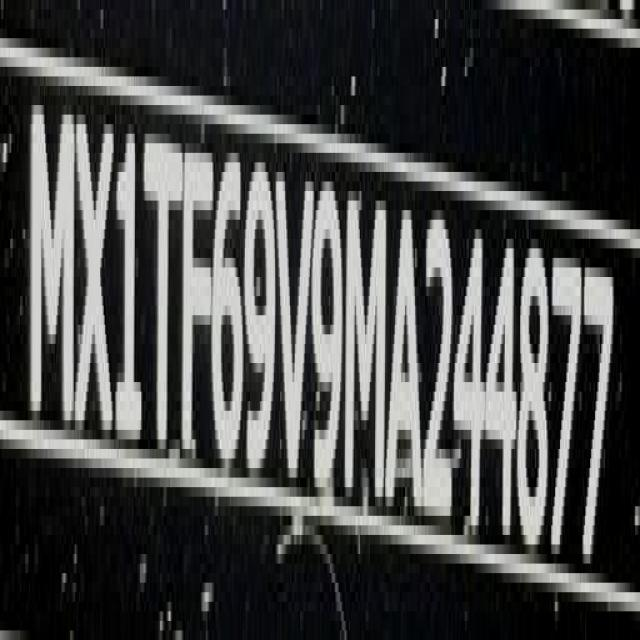1: (115, 124, 143, 456)
2: (424, 194, 459, 550)
4: (452, 198, 486, 553), (485, 212, 517, 560)
6: (212, 124, 245, 463)
7: (584, 243, 620, 596), (552, 232, 584, 583)
8: (517, 226, 553, 566)
9: (244, 145, 278, 505), (311, 167, 345, 502)
A: (389, 176, 425, 538)
F: (181, 131, 213, 456)
M: (27, 86, 76, 459), (345, 170, 389, 530)
T: (142, 110, 183, 481)
V: (277, 145, 312, 513)
X: (77, 104, 118, 468)
